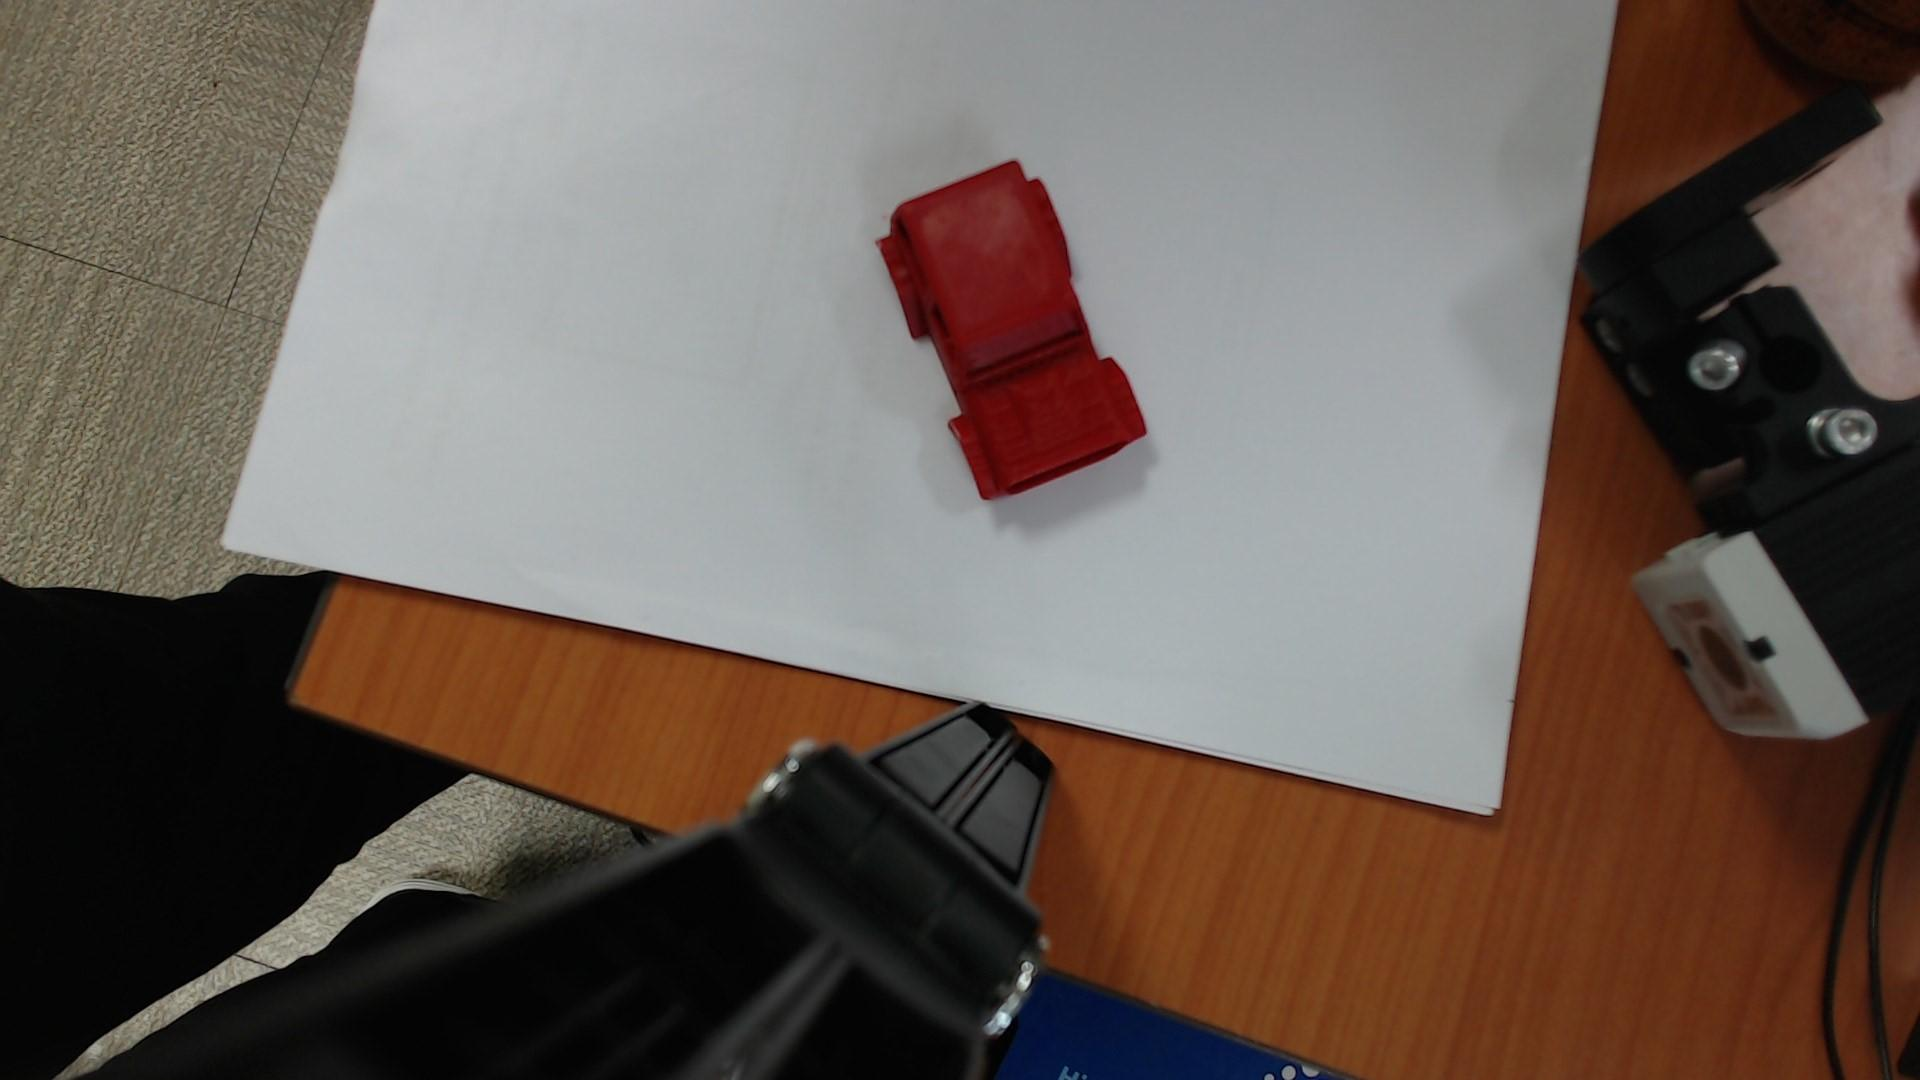Upper_ok: (877, 161, 1145, 498)
